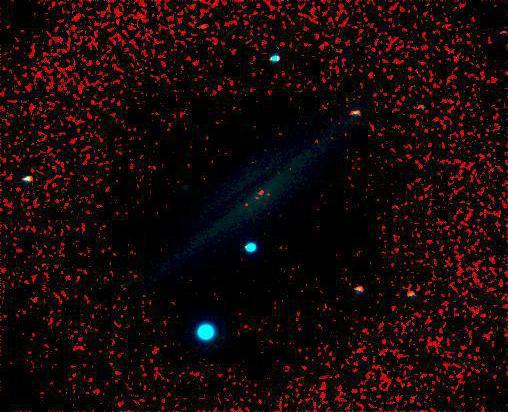star: (264, 152, 294, 182)
